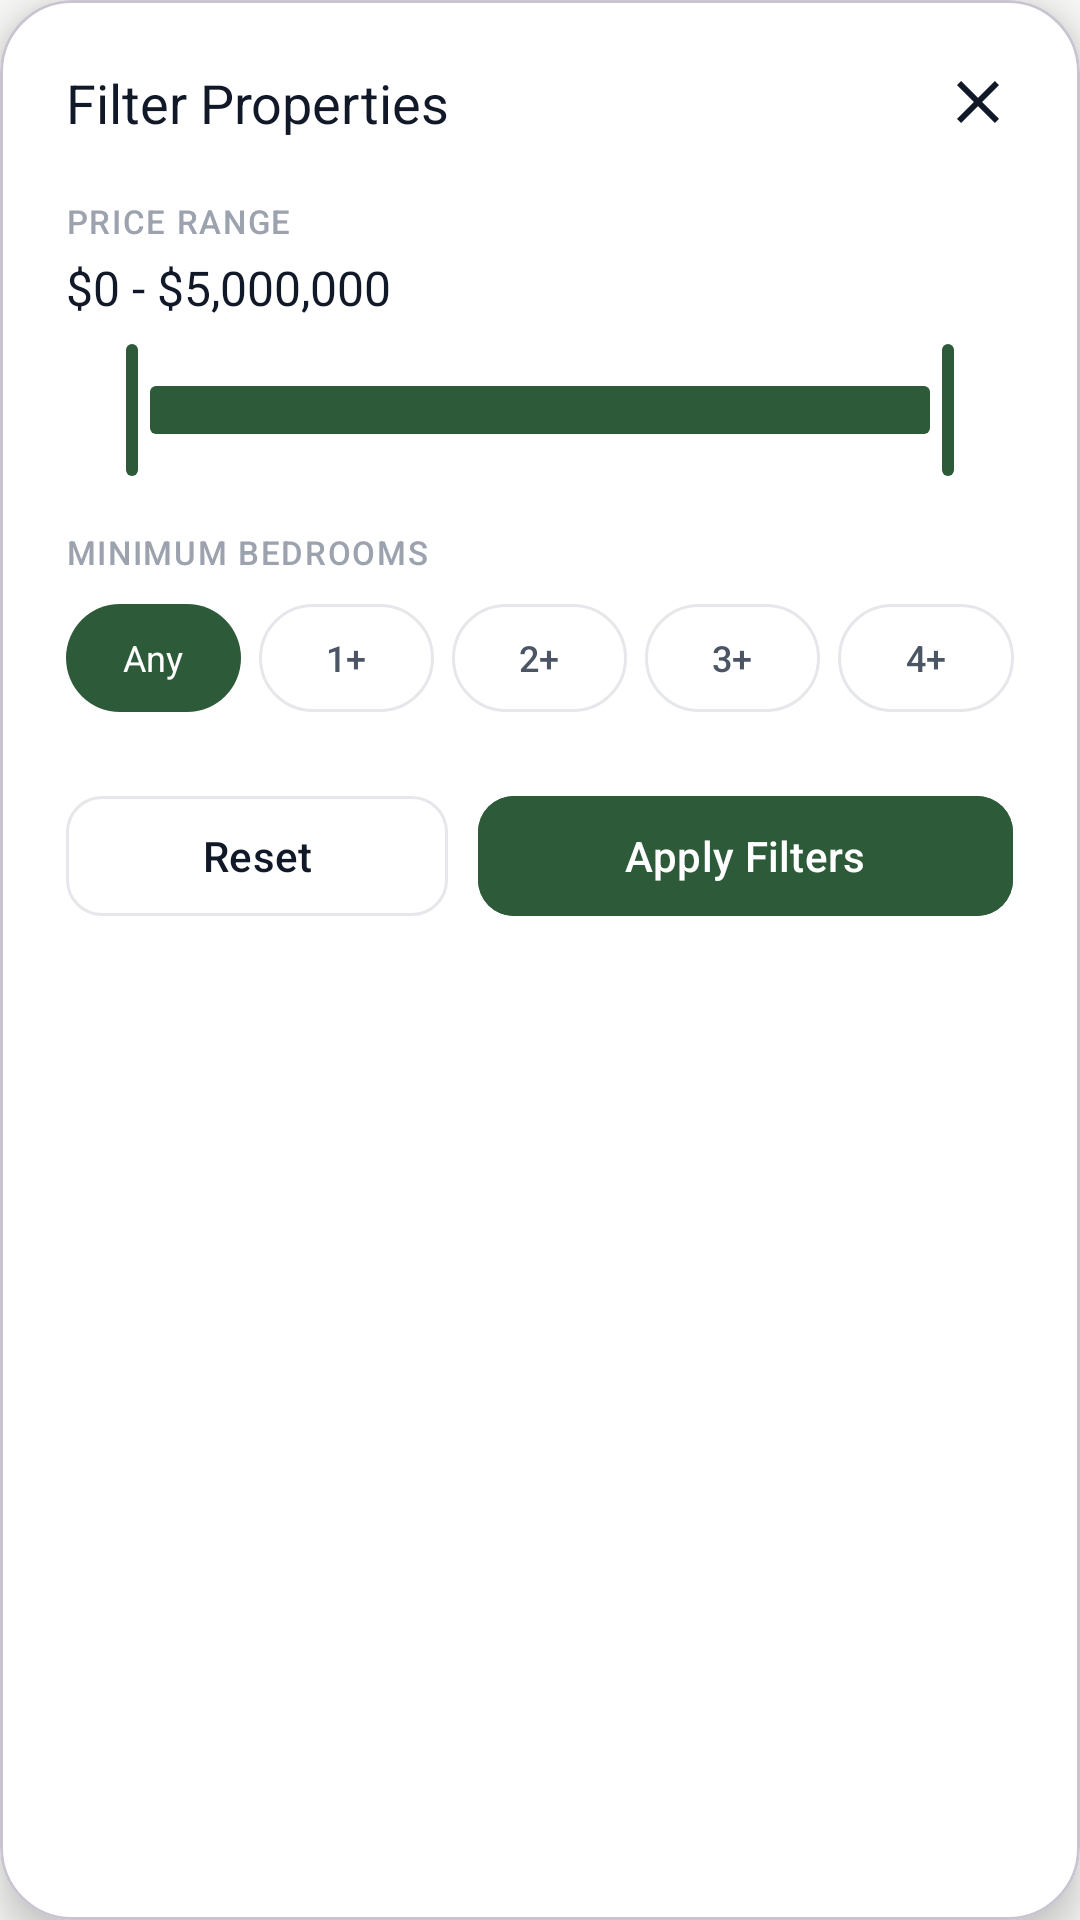

Named icons in this screenshot (1080px x 1920px) and their bounding boxes, {"x1": x1, "y1": y1, "x2": x2, "y2": y2}:
close: {"x1": 957, "y1": 81, "x2": 999, "y2": 123}
